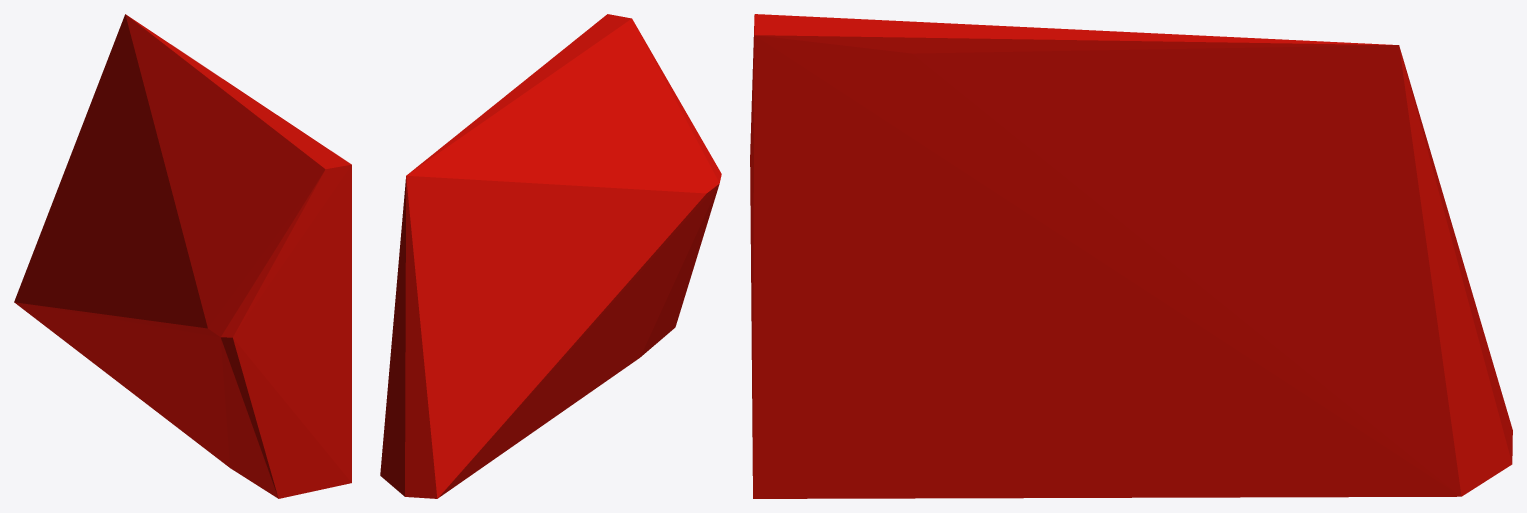
File: shoulder-roll-housing_convex_piece_011.obj
3 renders of one model, left to right at view 1: azimuth 30°, elevation 25°; view 2: azimuth 150°, elevation 25°; view 3: azimuth 270°, elevation 25°, orthographic. The views are drawn at different scales.
Size of the model in its own units: 0.017 by 0.0412 by 0.061.
